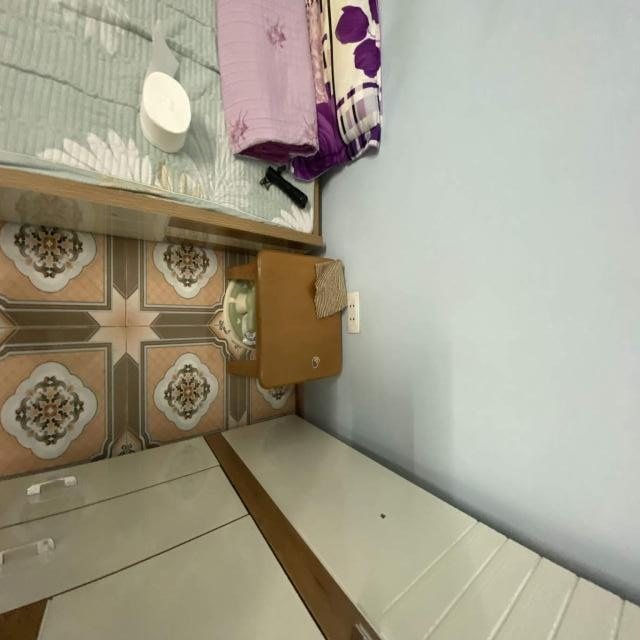outlet: (347, 291, 361, 333)
